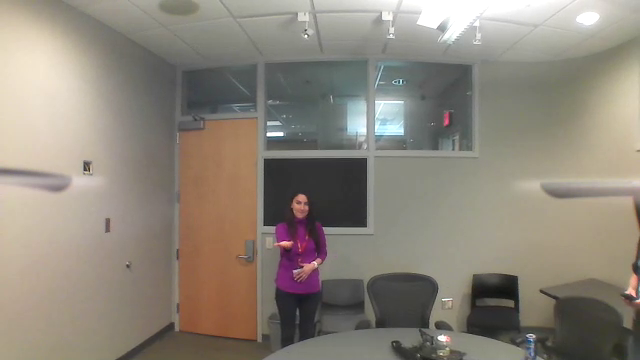land: (268, 239, 300, 254)
